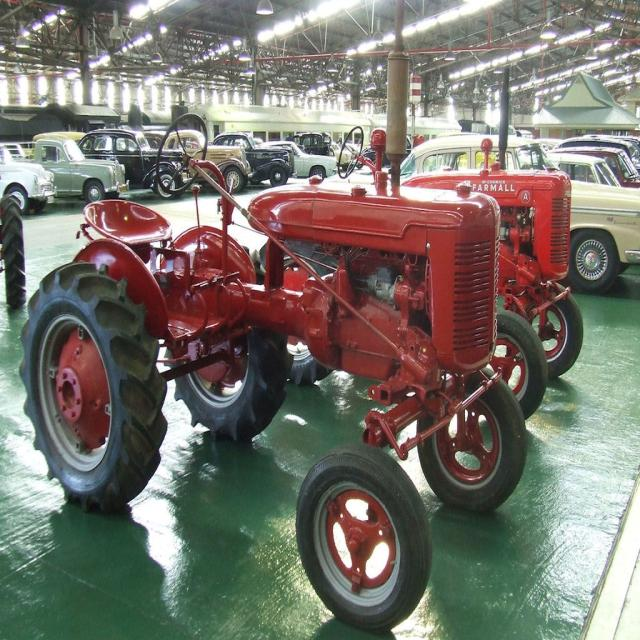car: (71, 120, 191, 198), (151, 120, 251, 198), (21, 137, 130, 203), (209, 128, 294, 187), (0, 146, 59, 218)
